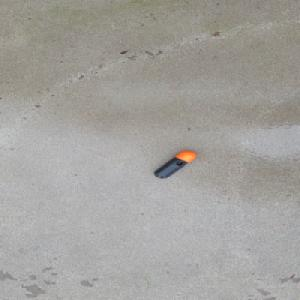PlasticPart: (153, 150, 197, 178)
